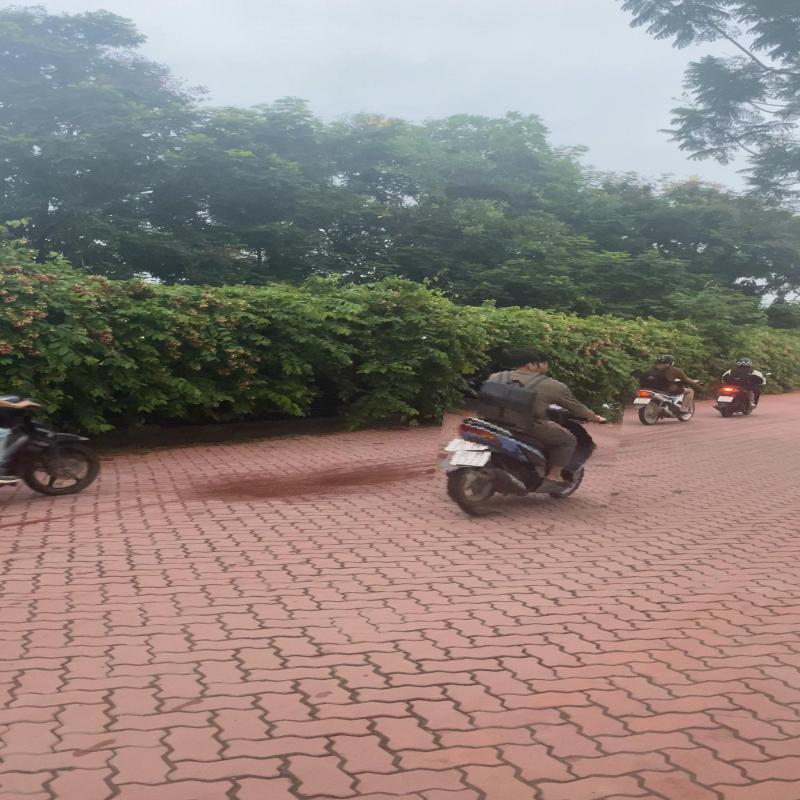licenseplate: (448, 450, 491, 467)
motorcyclist: (436, 341, 626, 522)
nohelmet: (500, 348, 540, 372)
